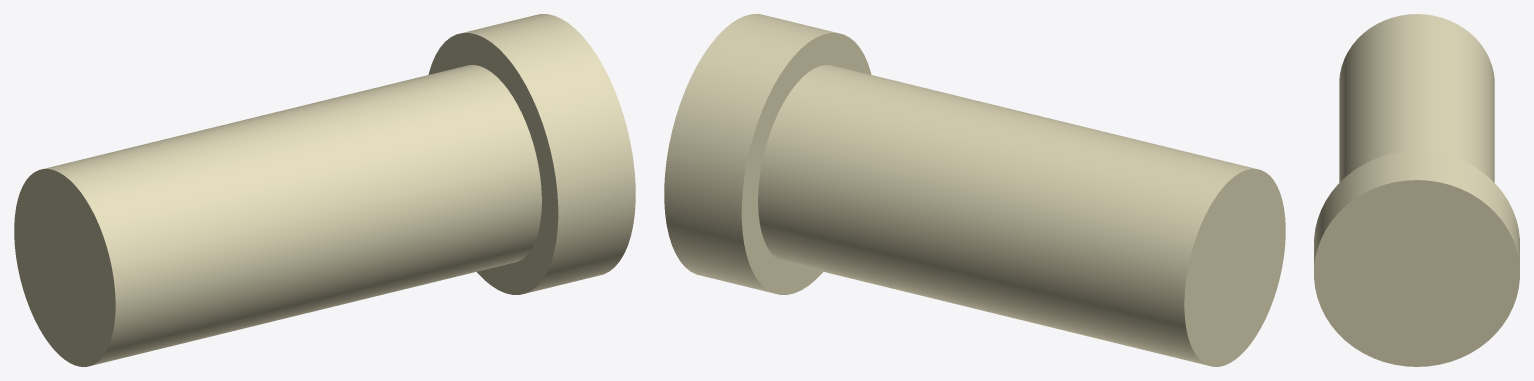
The model's file is ignition-coil-hv-terminal.glb.
3 renders of one model, left to right at view 1: azimuth 30°, elevation 25°; view 2: azimuth 150°, elevation 25°; view 3: azimuth 270°, elevation 25°, orthographic. The views are drawn at different scales.
Visible parts, largest first — view 1: world; view 2: world; view 3: world.
Boxes of the visible parts, x1,y1,x2,y2 form: world: (14, 14, 635, 366); world: (664, 14, 1285, 366); world: (1314, 14, 1519, 366).
Size of the model in its own units: 0.0195 by 0.009 by 0.00899.
